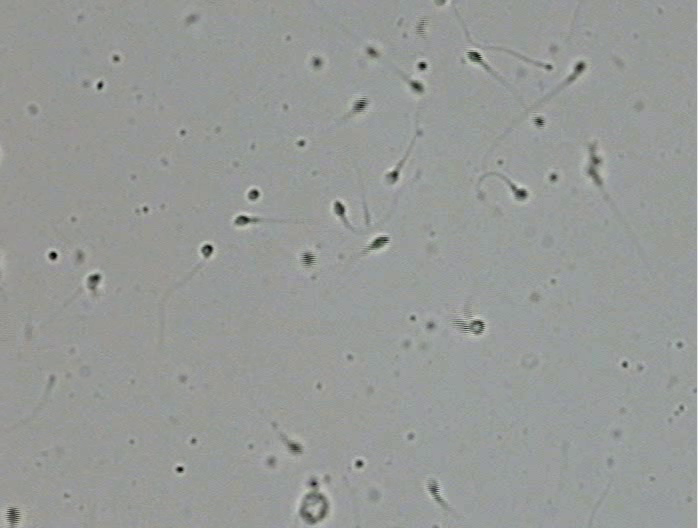Impurity: (299, 477, 329, 524)
S: (366, 235, 390, 251), (5, 506, 21, 526), (586, 166, 602, 186), (300, 250, 317, 268), (510, 184, 528, 201), (426, 478, 440, 498), (452, 318, 469, 334), (470, 319, 485, 335), (353, 97, 368, 113), (285, 441, 303, 454), (466, 50, 483, 63), (385, 170, 399, 185), (409, 80, 424, 94), (416, 17, 427, 36), (589, 149, 602, 165), (234, 215, 251, 226), (201, 244, 214, 258), (334, 201, 346, 216), (87, 274, 101, 286), (247, 189, 260, 201), (532, 116, 545, 128), (574, 61, 585, 74), (367, 47, 378, 57), (417, 61, 427, 71), (433, 1, 446, 7), (313, 58, 321, 67)
